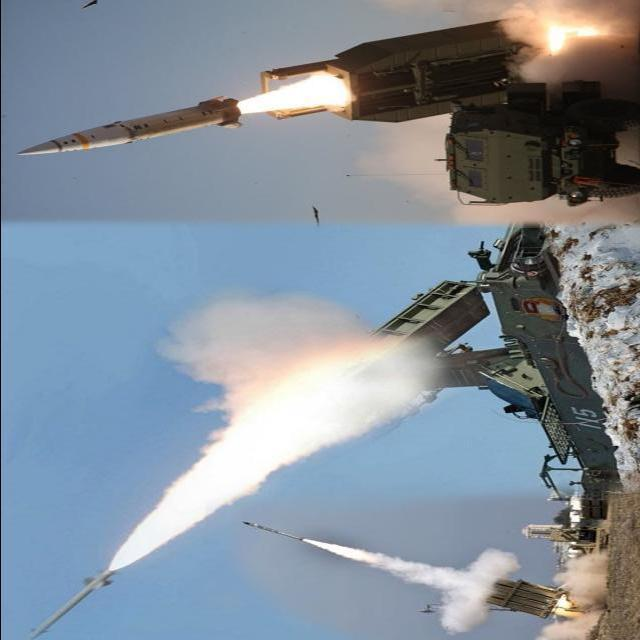Missile: (5, 94, 247, 159), (26, 568, 119, 640), (235, 517, 309, 543)
